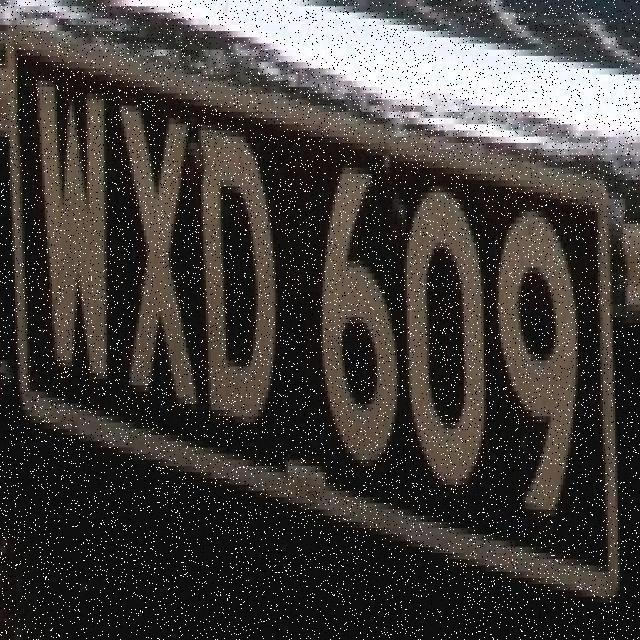LicensePlate: (7, 21, 620, 601)
